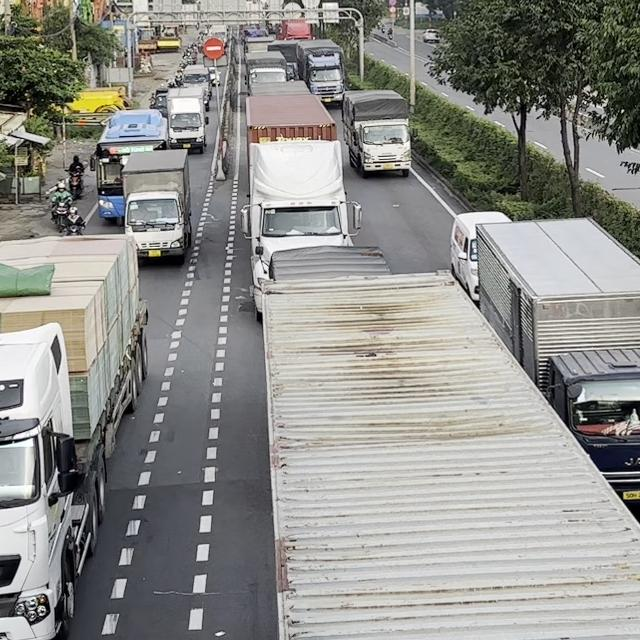bus: (90, 108, 168, 226)
car: (448, 210, 512, 304)
motorcycle: (50, 196, 73, 231), (59, 206, 86, 235), (63, 166, 84, 199)
truck: (261, 269, 640, 640), (0, 233, 151, 640), (475, 215, 640, 509), (238, 94, 364, 320), (256, 244, 392, 320), (120, 148, 192, 264), (340, 88, 411, 177), (296, 38, 346, 106), (165, 96, 207, 153)
